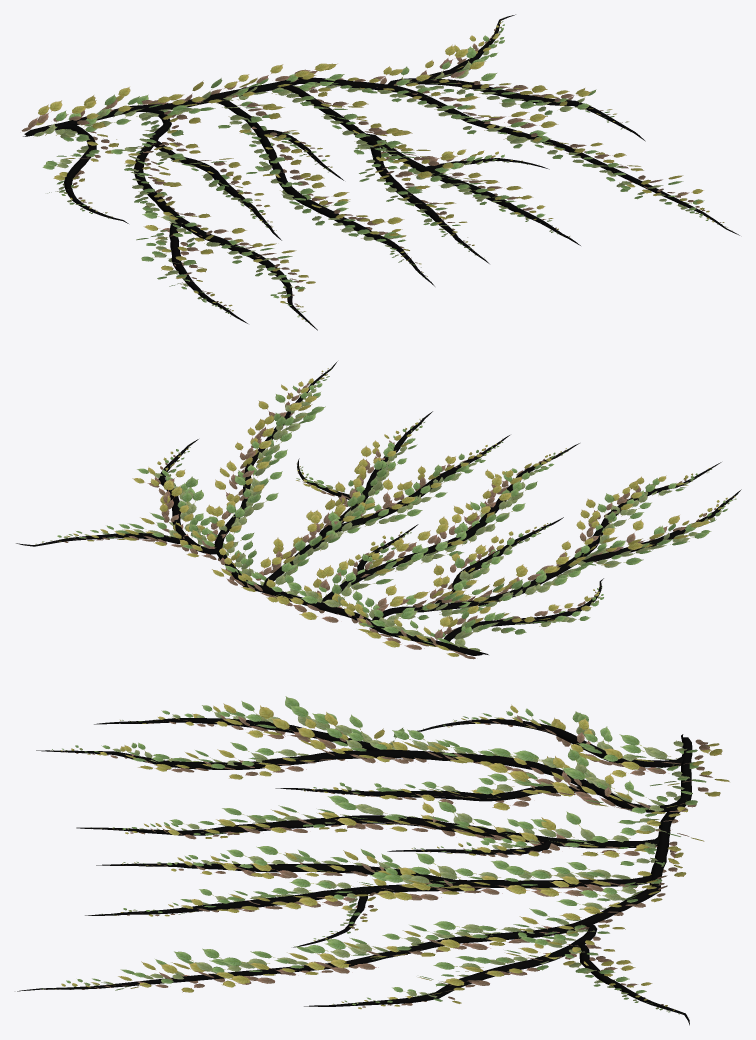
The model's file is Vine - wall01.fbx.
3 views of the same model, one above another, from view 1: azimuth 30°, elevation 25°; view 2: azimuth 150°, elevation 25°; view 3: azimuth 270°, elevation 25° (orthographic). The views are drawn at different scales.
Visible parts, largest first — view 1: Vine_wall01_LOD0; view 2: Vine_wall01_LOD0; view 3: Vine_wall01_LOD0.
Part boxes in pixels (x1,y1,x2,y2): Vine_wall01_LOD0: (21, 14, 739, 330); Vine_wall01_LOD0: (16, 361, 741, 659); Vine_wall01_LOD0: (17, 696, 729, 1025).
Size of what is drawn, in the model's own units: 3.92 by 3.75 by 0.166.
